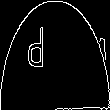P_S: (46, 30, 64, 80)
